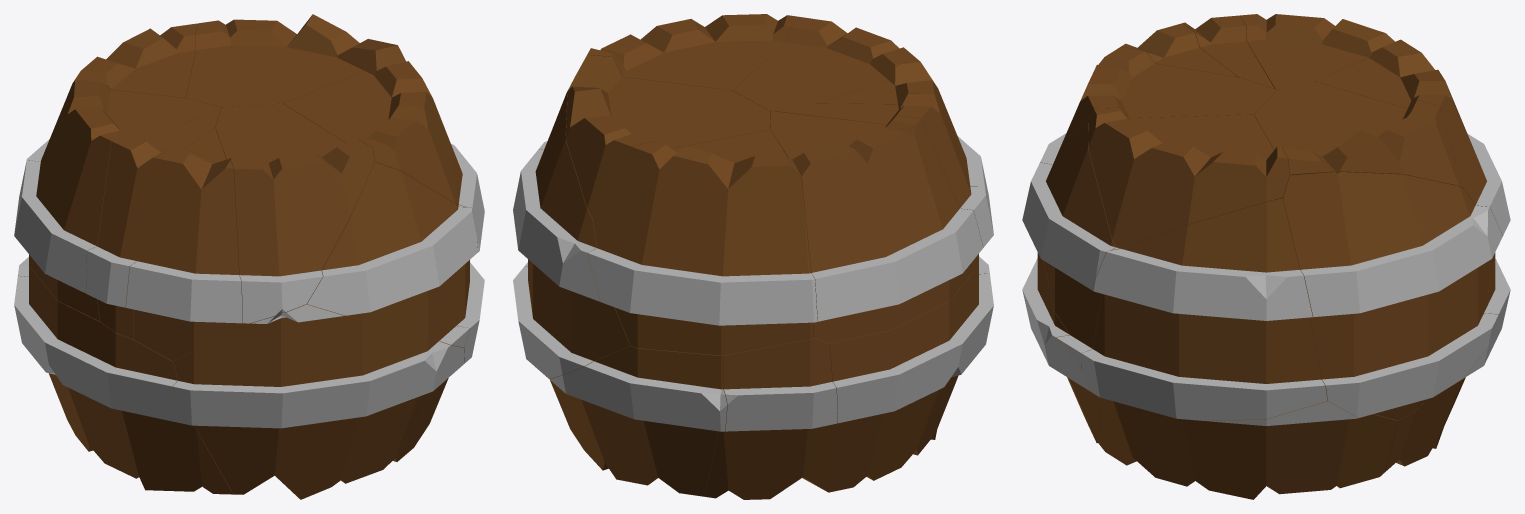
Rendered from LowPolyKegShattered2.glb.
3 views of the same model, side by side, from view 1: azimuth 30°, elevation 25°; view 2: azimuth 150°, elevation 25°; view 3: azimuth 270°, elevation 25° (orthographic). The views are drawn at different scales.
Parts seen in each view (by area): view 1: Cylinder.002_cell.001, Cylinder.002_cell.013, Cylinder.002_cell.008, Cylinder.002_cell.014, Cylinder.002_cell.005, Cylinder.002_cell.011, Cylinder.002_cell.007, Cylinder.002_cell.002, Cylinder.002_cell.006, Cylinder.002_cell.004, Cylinder.002_cell, Cylinder.002_cell.003; view 2: Cylinder.002_cell.004, Cylinder.002_cell.011, Cylinder.002_cell.008, Cylinder.002_cell.012, Cylinder.002_cell.010, Cylinder.002_cell.009, Cylinder.002_cell.007, Cylinder.002_cell.002, Cylinder.002_cell.013, Cylinder.002_cell.006, Cylinder.002_cell.014; view 3: Cylinder.002_cell.010, Cylinder.002_cell, Cylinder.002_cell.003, Cylinder.002_cell.002, Cylinder.002_cell.007, Cylinder.002_cell.005, Cylinder.002_cell.013, Cylinder.002_cell.004, Cylinder.002_cell.011, Cylinder.002_cell.012, Cylinder.002_cell.001, Cylinder.002_cell.006 (+1 smaller).
Part boxes in pixels (x1=…): Cylinder.002_cell.001: x1=172, y1=304, x2=464, y2=499; Cylinder.002_cell.013: x1=215, y1=103, x2=374, y2=323; Cylinder.002_cell.008: x1=14, y1=266, x2=233, y2=494; Cylinder.002_cell.014: x1=126, y1=128, x2=242, y2=361; Cylinder.002_cell.005: x1=307, y1=162, x2=477, y2=347; Cylinder.002_cell.011: x1=14, y1=79, x2=221, y2=321; Cylinder.002_cell.007: x1=186, y1=14, x2=390, y2=107; Cylinder.002_cell.002: x1=283, y1=43, x2=464, y2=207; Cylinder.002_cell.006: x1=86, y1=109, x2=220, y2=339; Cylinder.002_cell.004: x1=19, y1=23, x2=197, y2=197; Cylinder.002_cell: x1=449, y1=139, x2=484, y2=362; Cylinder.002_cell.003: x1=393, y1=378, x2=448, y2=461; Cylinder.002_cell.004: x1=587, y1=130, x2=817, y2=355; Cylinder.002_cell.011: x1=770, y1=111, x2=983, y2=343; Cylinder.002_cell.008: x1=829, y1=269, x2=993, y2=492; Cylinder.002_cell.012: x1=549, y1=346, x2=727, y2=496; Cylinder.002_cell.010: x1=513, y1=89, x2=630, y2=378; Cylinder.002_cell.009: x1=704, y1=338, x2=837, y2=499; Cylinder.002_cell.007: x1=565, y1=54, x2=770, y2=218; Cylinder.002_cell.002: x1=587, y1=14, x2=801, y2=90; Cylinder.002_cell.013: x1=732, y1=17, x2=958, y2=136; Cylinder.002_cell.006: x1=775, y1=93, x2=993, y2=274; Cylinder.002_cell.014: x1=817, y1=58, x2=992, y2=222; Cylinder.002_cell.010: x1=1282, y1=172, x2=1502, y2=420; Cylinder.002_cell: x1=1081, y1=198, x2=1327, y2=420; Cylinder.002_cell.003: x1=1100, y1=397, x2=1397, y2=499; Cylinder.002_cell.002: x1=1088, y1=108, x2=1289, y2=249; Cylinder.002_cell.007: x1=1254, y1=81, x2=1463, y2=187; Cylinder.002_cell.005: x1=1022, y1=120, x2=1115, y2=368; Cylinder.002_cell.013: x1=1040, y1=47, x2=1276, y2=164; Cylinder.002_cell.004: x1=1315, y1=39, x2=1510, y2=264; Cylinder.002_cell.011: x1=1240, y1=14, x2=1394, y2=89; Cylinder.002_cell.012: x1=1384, y1=259, x2=1510, y2=472; Cylinder.002_cell.001: x1=1022, y1=252, x2=1100, y2=444; Cylinder.002_cell.006: x1=1183, y1=15, x2=1274, y2=88.
Size of the model in its own units: 263 by 212 by 269.
